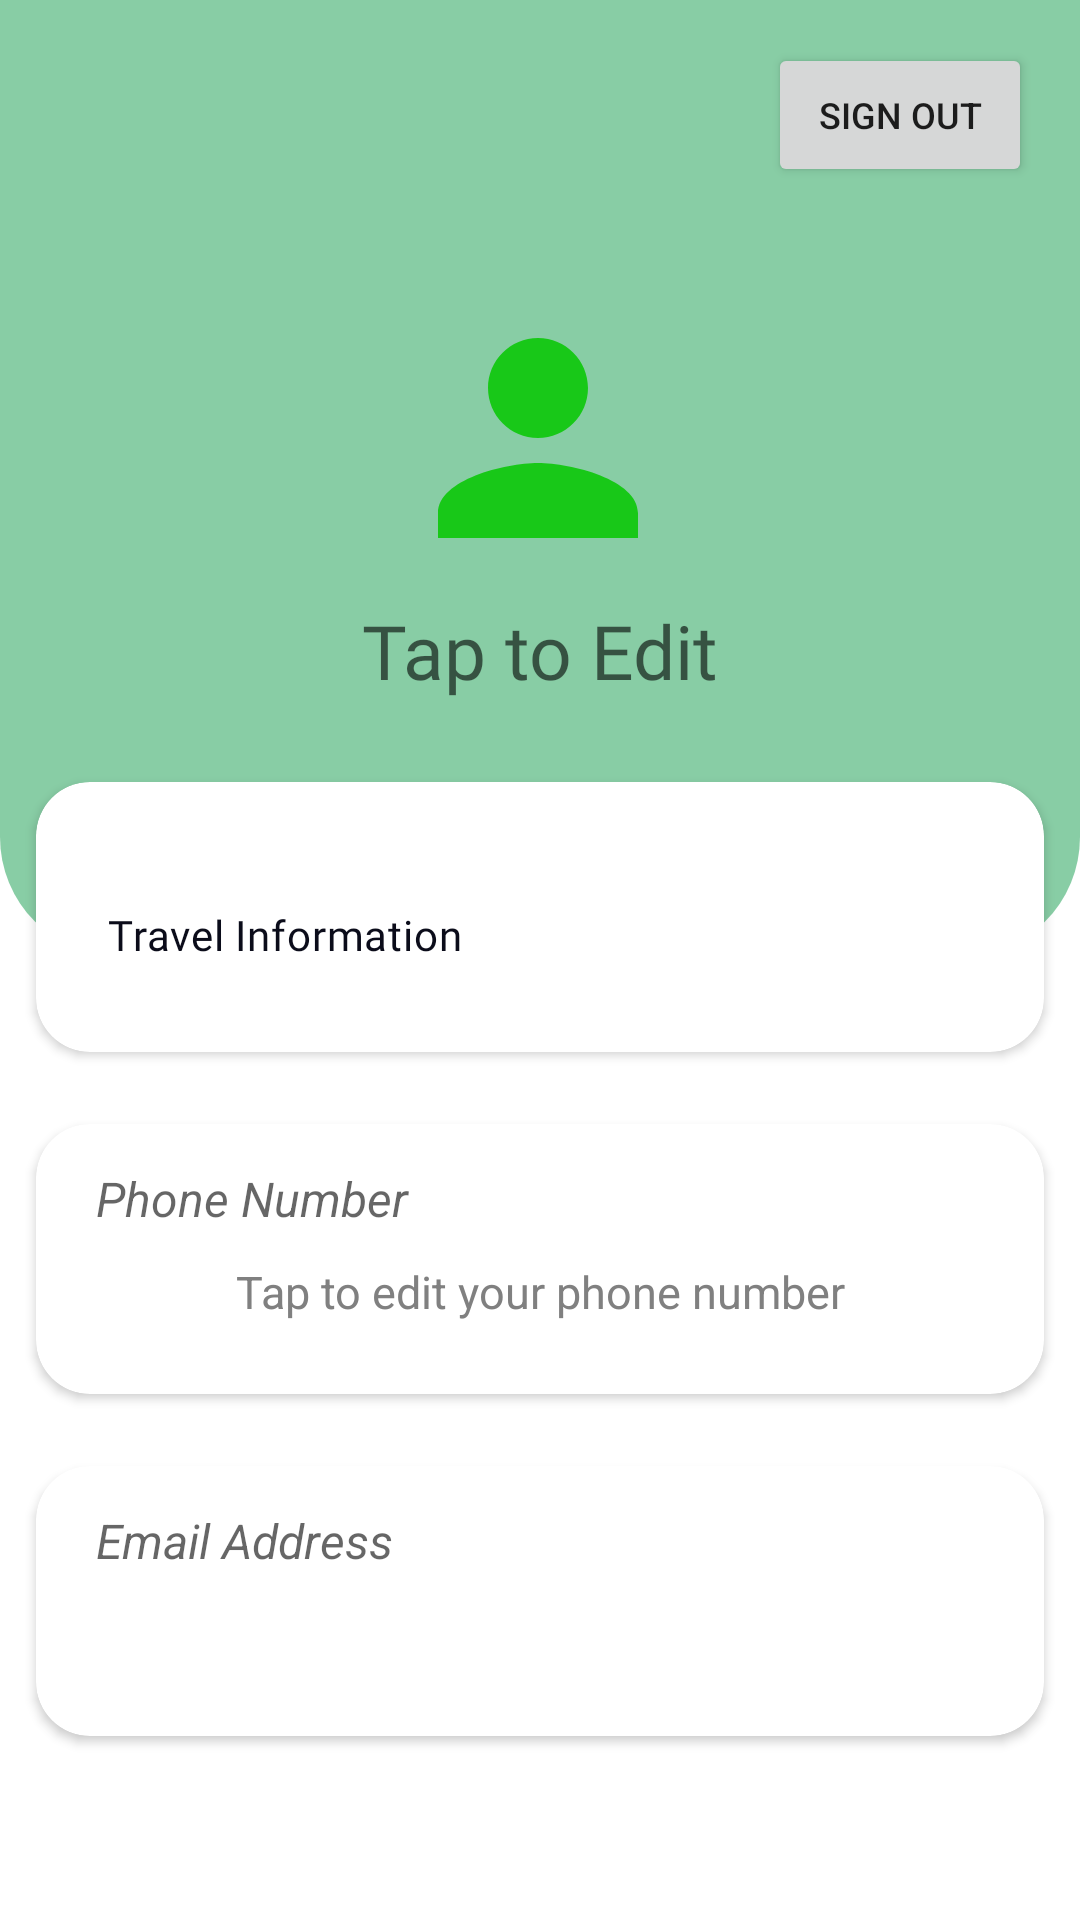

Icons on this 1080x1920 Android screen, each with its box as {"x1": x1, "y1": y1, "x2": x2, "y2": y2}:
person: {"x1": 438, "y1": 338, "x2": 638, "y2": 538}
